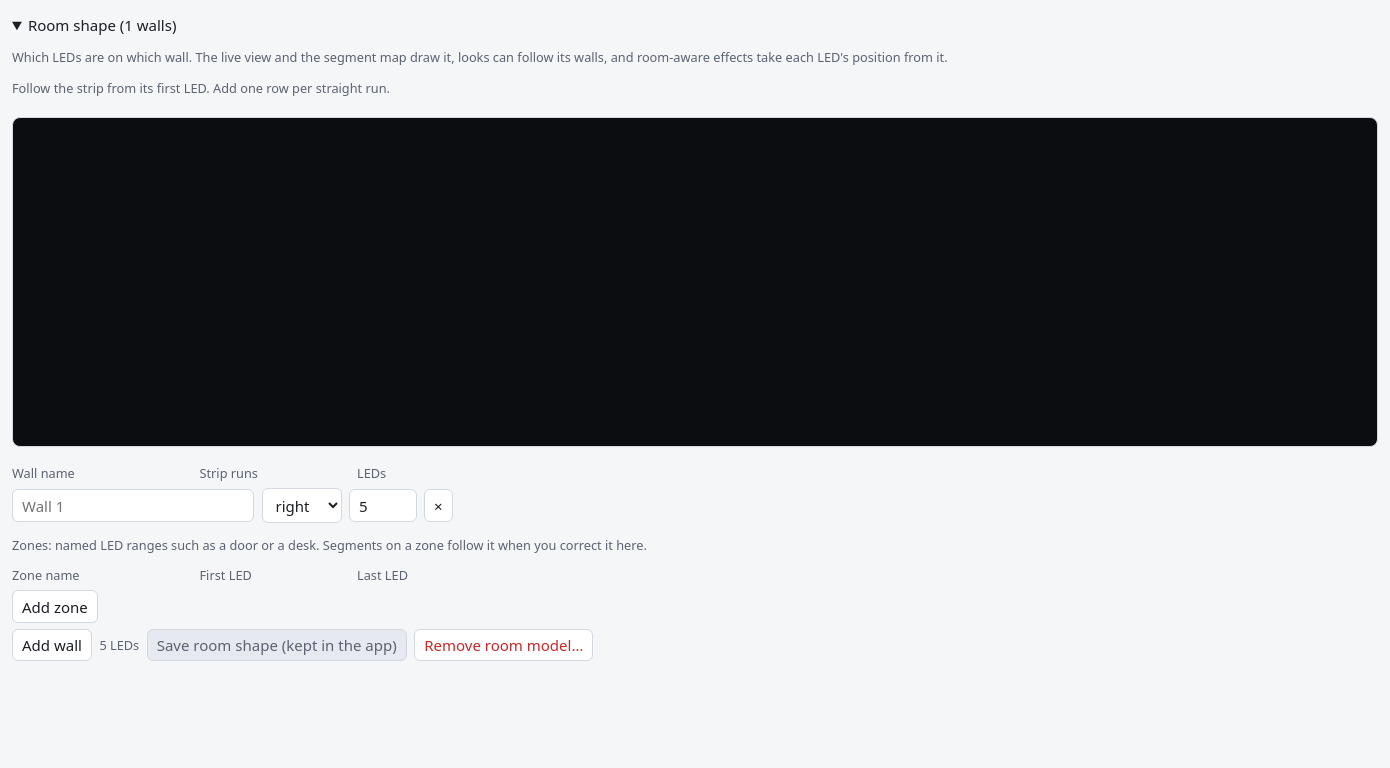
Test: removing a room model offers Undo and refreshes the shape
Expected: the field showing "5" is shown, [349,489,416,522]
Click the button "Remove room model…".
click(504, 645)  # box [414,629,593,661]
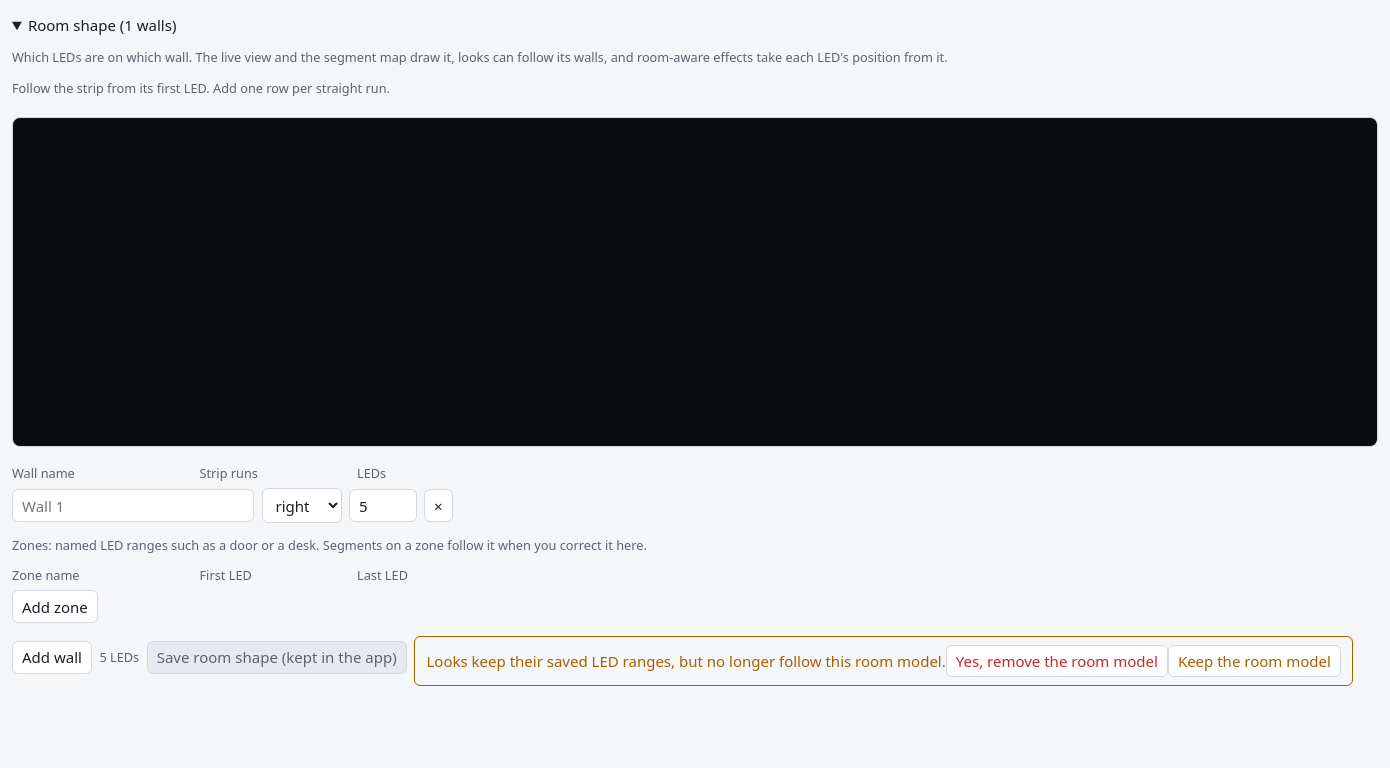
Click the button "Yes, remove the room model".
click(1057, 661)  # box [946,645,1168,677]
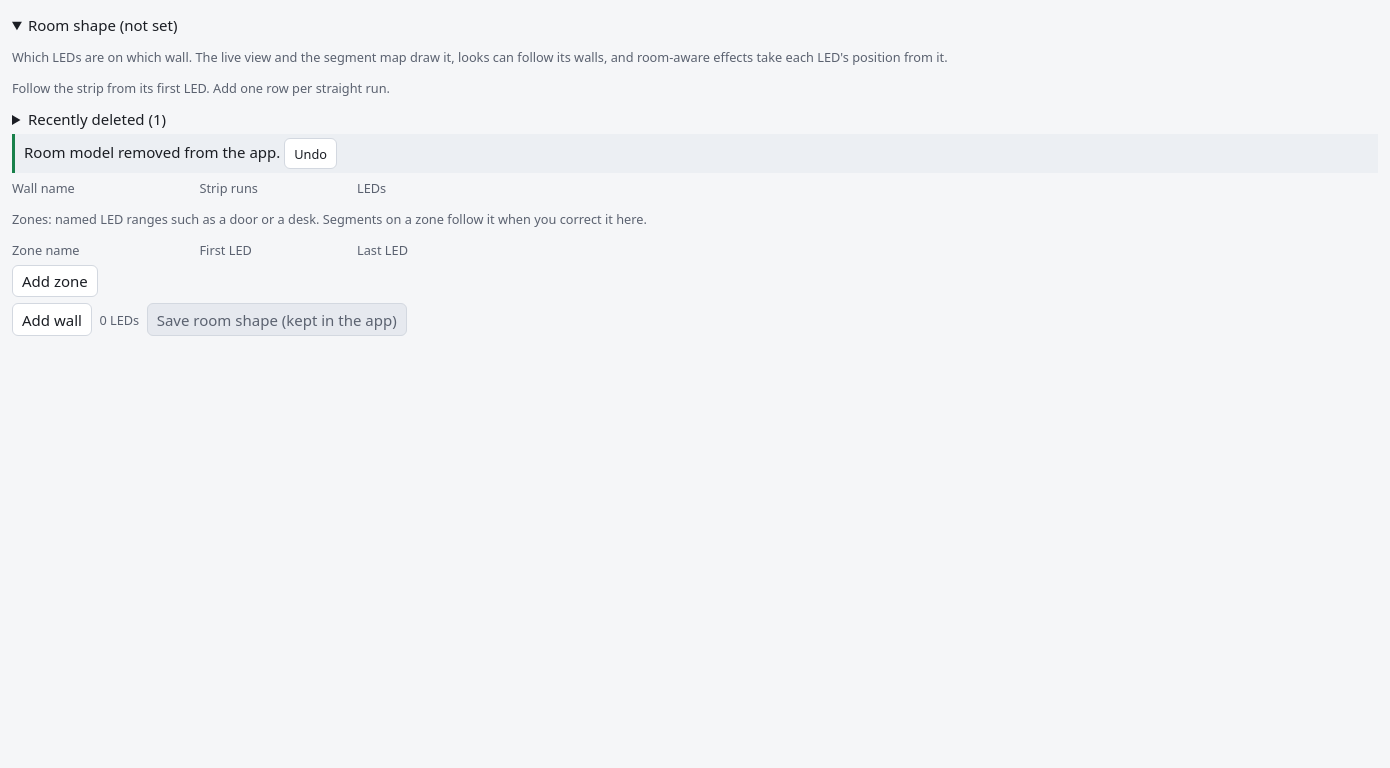
Expected: the text "Room model removed from the app." is shown, [24,142,280,162]
Click the button "Undo".
click(311, 154)  # box [284,138,337,169]
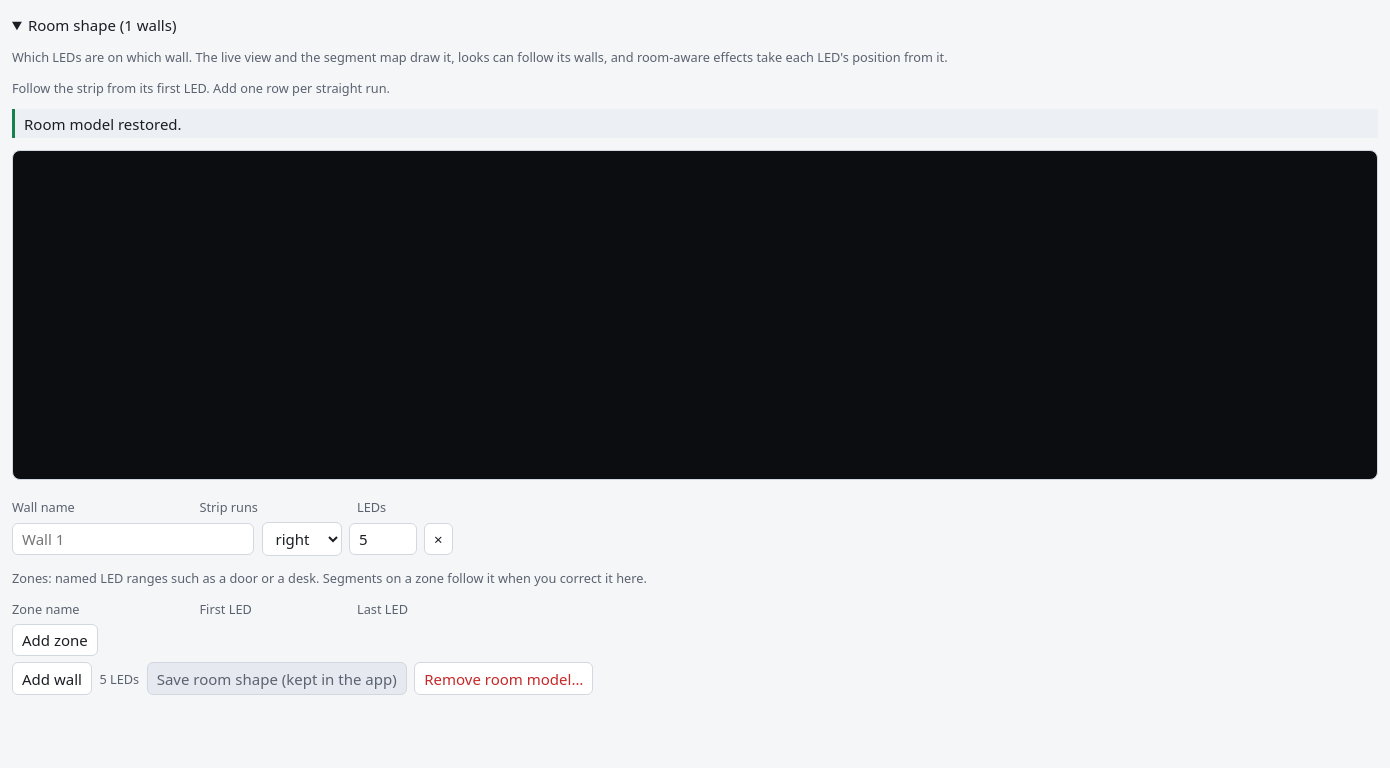
Expected: the field showing "5" is shown, [349,523,416,555]
